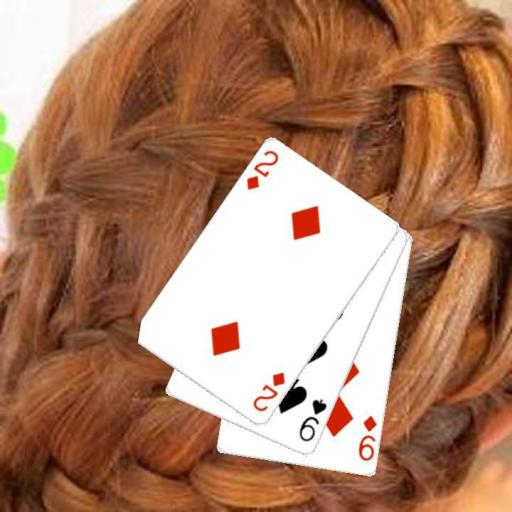2D: (250, 369, 287, 414), (243, 147, 280, 192)
9D: (356, 412, 379, 463)
9S: (296, 396, 328, 444)
